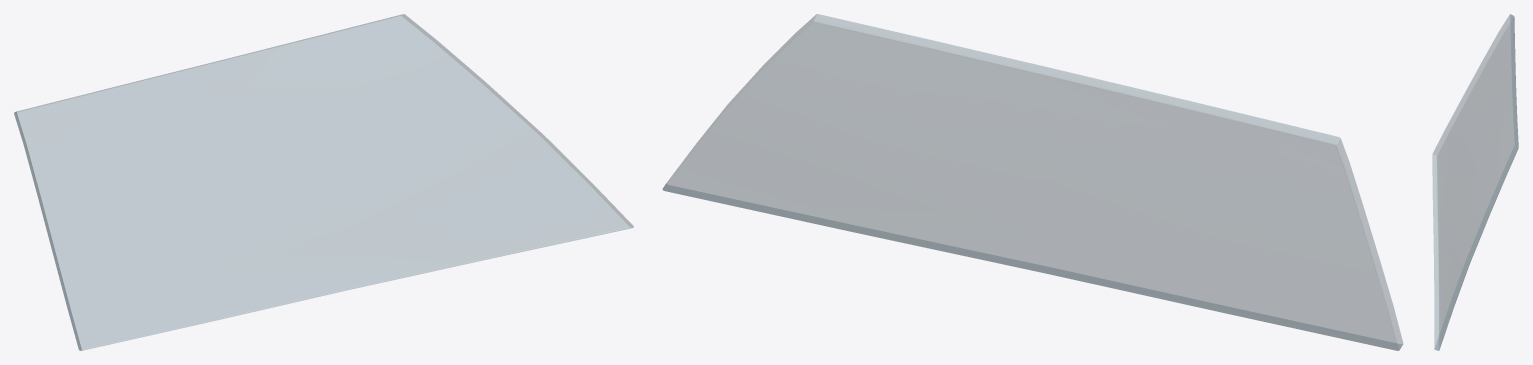
The picture shows the model from 3 angles, left to right: view 1: azimuth 30°, elevation 25°; view 2: azimuth 150°, elevation 25°; view 3: azimuth 270°, elevation 25°; orthographic projection. The views are drawn at different scales.
Parts seen in each view (by area): view 1: SM_MiniCooper_Door_FR_Glass_Ext2; view 2: SM_MiniCooper_Door_FR_Glass_Ext2; view 3: SM_MiniCooper_Door_FR_Glass_Ext2.
Part boxes in pixels (box(x1,y1,x2,y2)): SM_MiniCooper_Door_FR_Glass_Ext2: box(14, 14, 633, 350); SM_MiniCooper_Door_FR_Glass_Ext2: box(662, 14, 1403, 350); SM_MiniCooper_Door_FR_Glass_Ext2: box(1432, 14, 1518, 350).
Bounding box in the file's own units: 1.22 × 0.4469 × 0.236.
